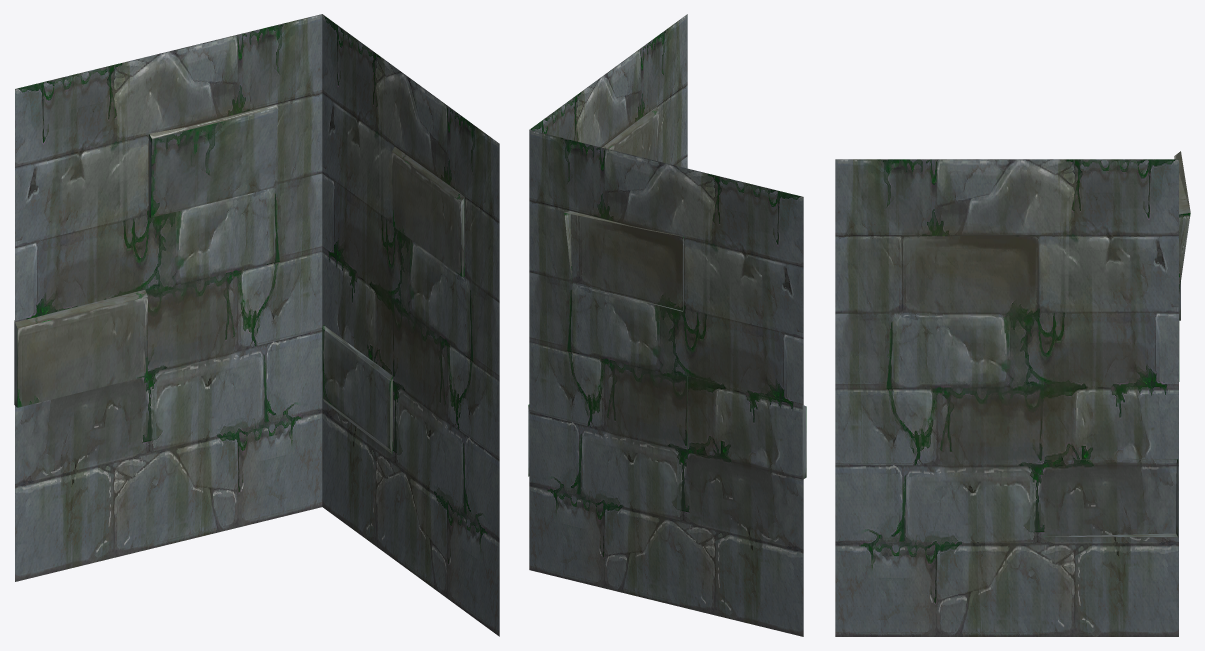
File: stemple_wall_concave_02.fbx
The picture shows the model from 3 angles, left to right: view 1: azimuth 30°, elevation 25°; view 2: azimuth 150°, elevation 25°; view 3: azimuth 270°, elevation 25°; orthographic projection. The views are drawn at different scales.
Parts seen in each view (by area): view 1: stemple_wall_concave_02-0; view 2: stemple_wall_concave_02-0; view 3: stemple_wall_concave_02-0.
Part boxes in pixels (<box>): stemple_wall_concave_02-0: <box>14,14,499,636</box>; stemple_wall_concave_02-0: <box>528,14,806,636</box>; stemple_wall_concave_02-0: <box>835,151,1190,636</box>.
Bounding box in the file's own units: 3.61 × 5.5 × 3.71.
